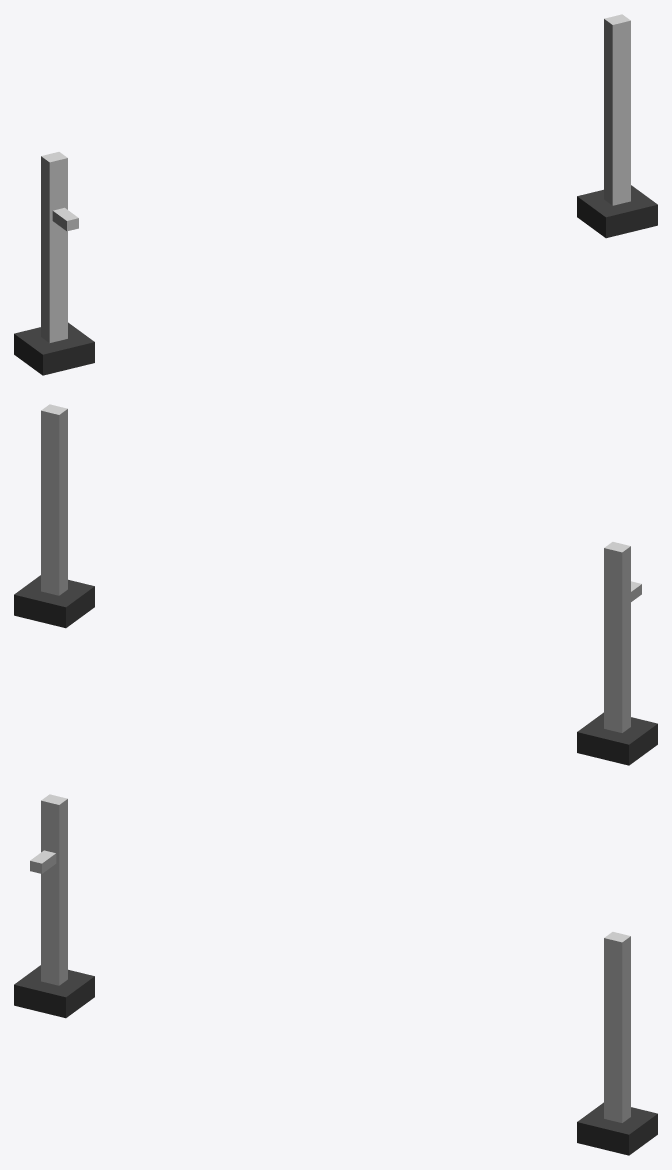
The model's file is SM_Prop_Barrier_01.fbx.
The picture shows the model from 3 angles, top to bottom: view 1: azimuth 30°, elevation 25°; view 2: azimuth 150°, elevation 25°; view 3: azimuth 330°, elevation 25°; orthographic projection.
Parts seen in each view (by area): view 1: SM_Prop_Barrier_01; view 2: SM_Prop_Barrier_01; view 3: SM_Prop_Barrier_01.
Boxes of the visible parts, <box> form: SM_Prop_Barrier_01: <box>14,14,657,375</box>; SM_Prop_Barrier_01: <box>14,404,657,765</box>; SM_Prop_Barrier_01: <box>14,794,657,1155</box>.
Bounding box in the file's own units: 4.36 × 1.37 × 0.4047.
